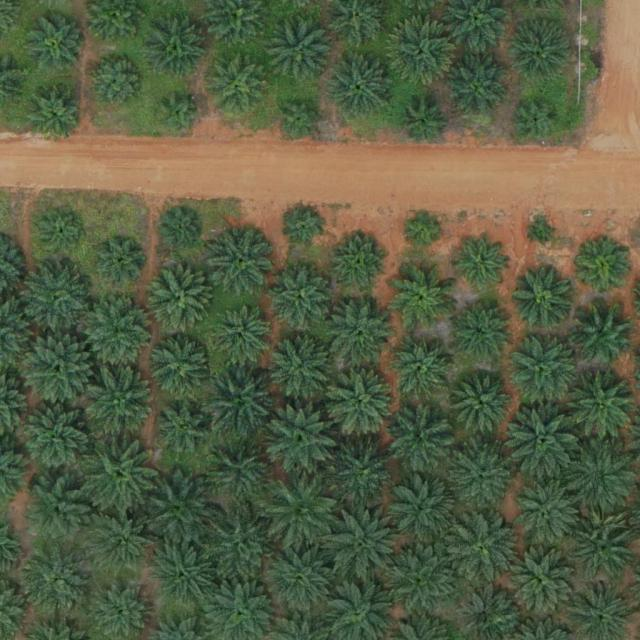Healthy: (19, 401, 97, 480), (82, 364, 160, 443), (81, 436, 159, 515), (141, 471, 219, 550), (201, 359, 279, 438), (201, 433, 279, 512), (201, 506, 279, 585), (264, 402, 342, 481), (263, 476, 341, 555), (323, 506, 401, 585), (503, 404, 581, 483), (561, 440, 639, 519), (263, 539, 341, 618), (324, 366, 402, 444), (443, 511, 521, 589), (384, 541, 462, 619), (567, 372, 638, 443), (21, 550, 92, 621), (388, 21, 458, 92), (20, 260, 90, 331), (23, 333, 93, 404), (21, 478, 92, 548), (84, 297, 154, 368), (89, 507, 159, 578), (509, 331, 579, 402), (567, 509, 637, 580), (511, 479, 581, 549), (269, 17, 332, 80), (207, 55, 270, 118), (145, 19, 208, 82), (24, 82, 87, 145), (149, 266, 212, 329), (209, 305, 272, 368), (329, 301, 392, 364), (334, 443, 397, 506), (390, 411, 453, 474), (450, 300, 513, 363), (510, 553, 573, 616), (152, 542, 215, 605), (511, 20, 573, 83), (447, 57, 509, 120), (330, 56, 392, 119), (149, 338, 211, 401), (213, 229, 275, 292), (270, 265, 332, 328), (270, 335, 332, 398), (393, 268, 455, 331), (390, 339, 452, 402), (393, 476, 455, 539), (452, 373, 514, 436), (450, 445, 512, 508), (513, 265, 575, 328), (572, 302, 635, 364), (153, 398, 215, 460), (90, 55, 145, 110), (30, 18, 85, 73), (454, 238, 509, 293), (336, 236, 390, 291), (578, 243, 632, 298), (401, 101, 448, 148)
Small: (38, 211, 85, 259), (99, 239, 146, 286), (515, 97, 562, 144), (279, 97, 326, 144), (156, 92, 203, 139), (287, 208, 326, 248), (403, 209, 442, 249), (162, 210, 201, 249), (533, 222, 556, 246)
